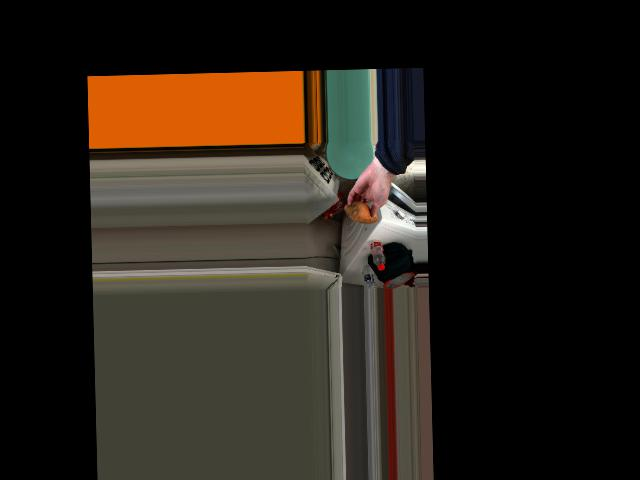sweet_potato: (347, 197, 376, 224)
